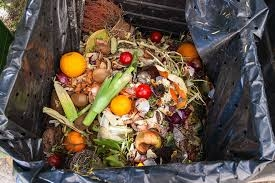kitchen_waste: (82, 64, 136, 127), (49, 76, 85, 122), (155, 64, 190, 110), (56, 51, 89, 80), (131, 128, 165, 155), (82, 26, 115, 50), (108, 93, 135, 118), (173, 41, 201, 64), (61, 130, 89, 153), (134, 80, 154, 100), (45, 153, 62, 168), (117, 50, 135, 64), (149, 31, 165, 45)
